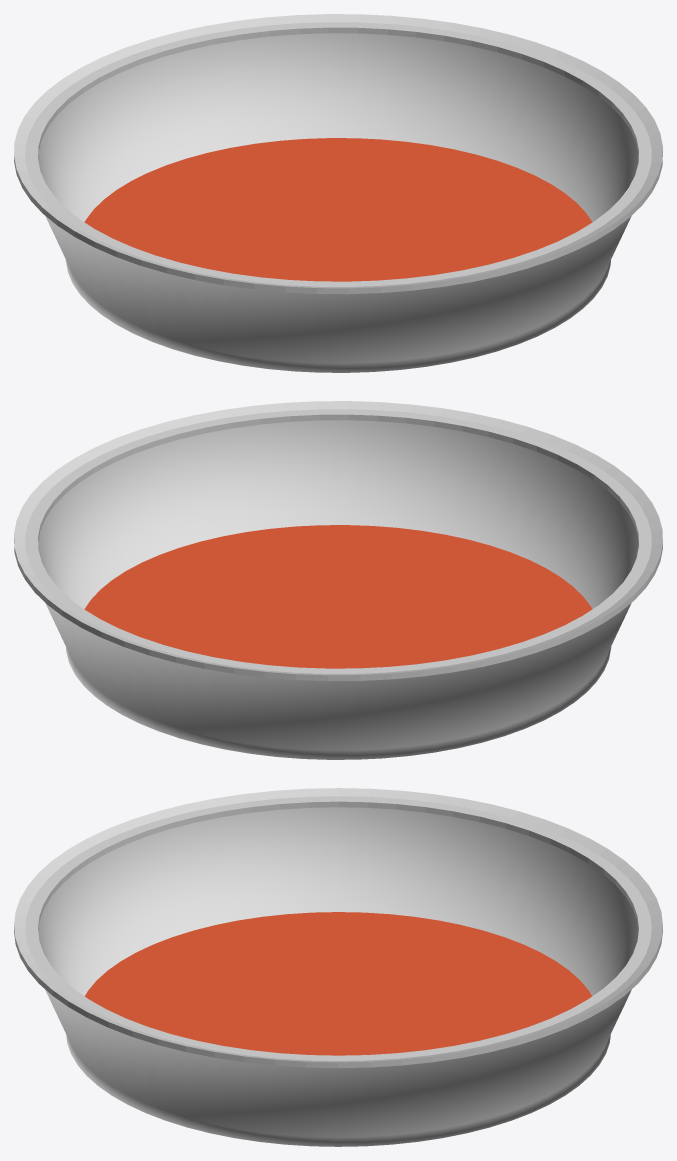
The model's file is Skovorodkabezruchki.fbx.
3 renders of one model, top to bottom at view 1: azimuth 30°, elevation 25°; view 2: azimuth 150°, elevation 25°; view 3: azimuth 270°, elevation 25°, orthographic.
Parts seen in each view (by area): view 1: Куб.002; view 2: Куб.002; view 3: Куб.002.
Boxes of the visible parts, x1,y1,x2,y2 form: Куб.002: [14, 14, 662, 372]; Куб.002: [14, 401, 662, 759]; Куб.002: [14, 788, 662, 1146].
Size of the model in its own units: 2.38 by 0.4307 by 2.38.
